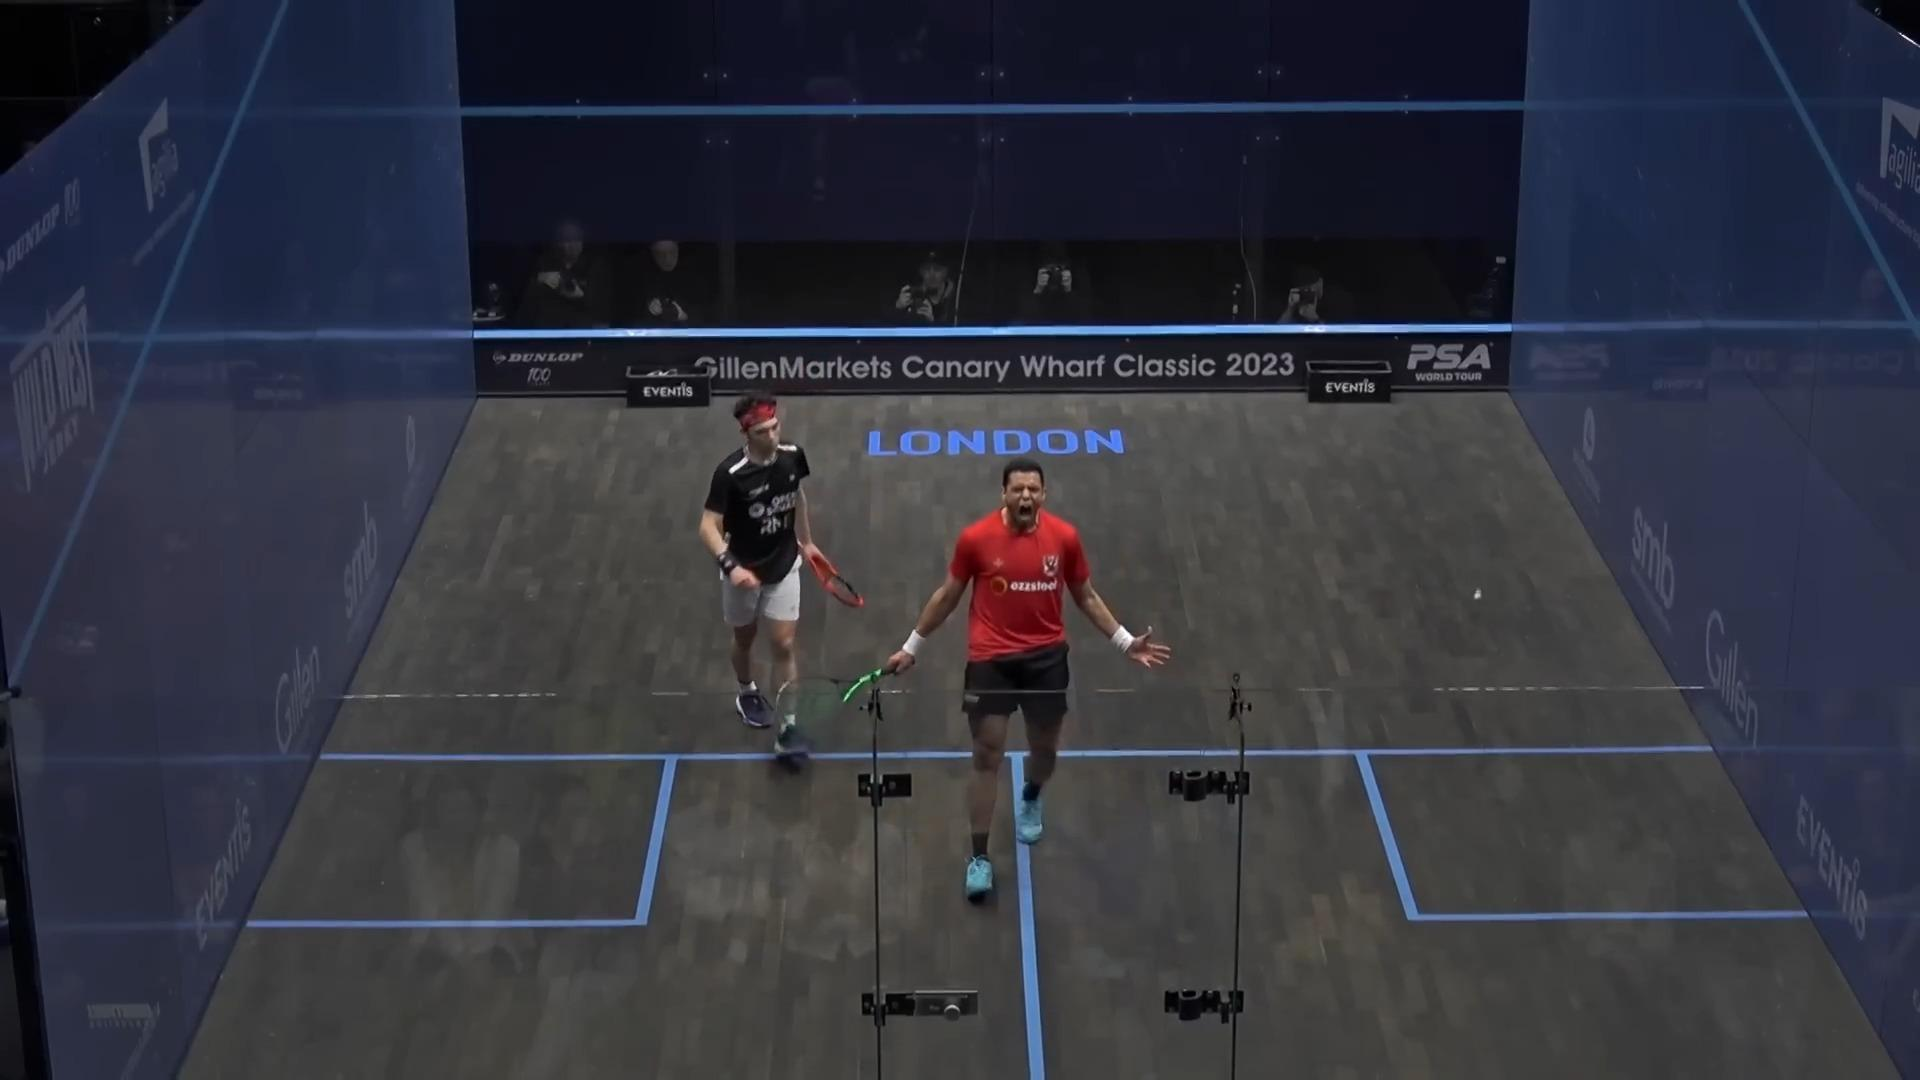Racket: (758, 670, 902, 746)
